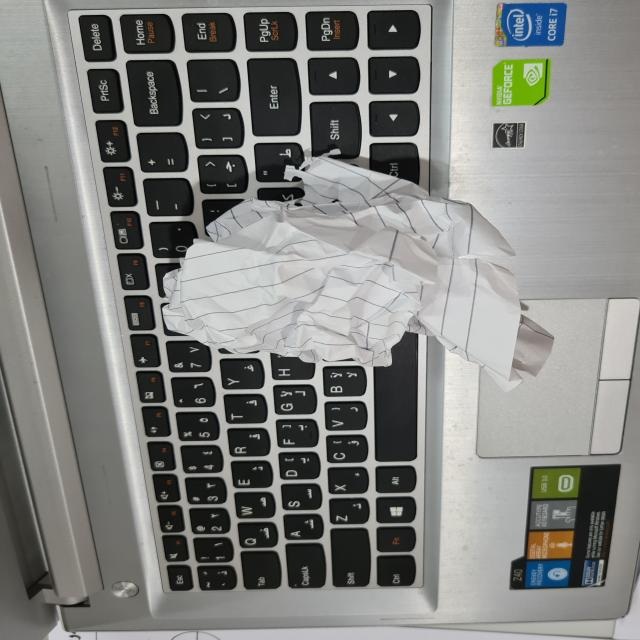kertas: (168, 170, 538, 377)
